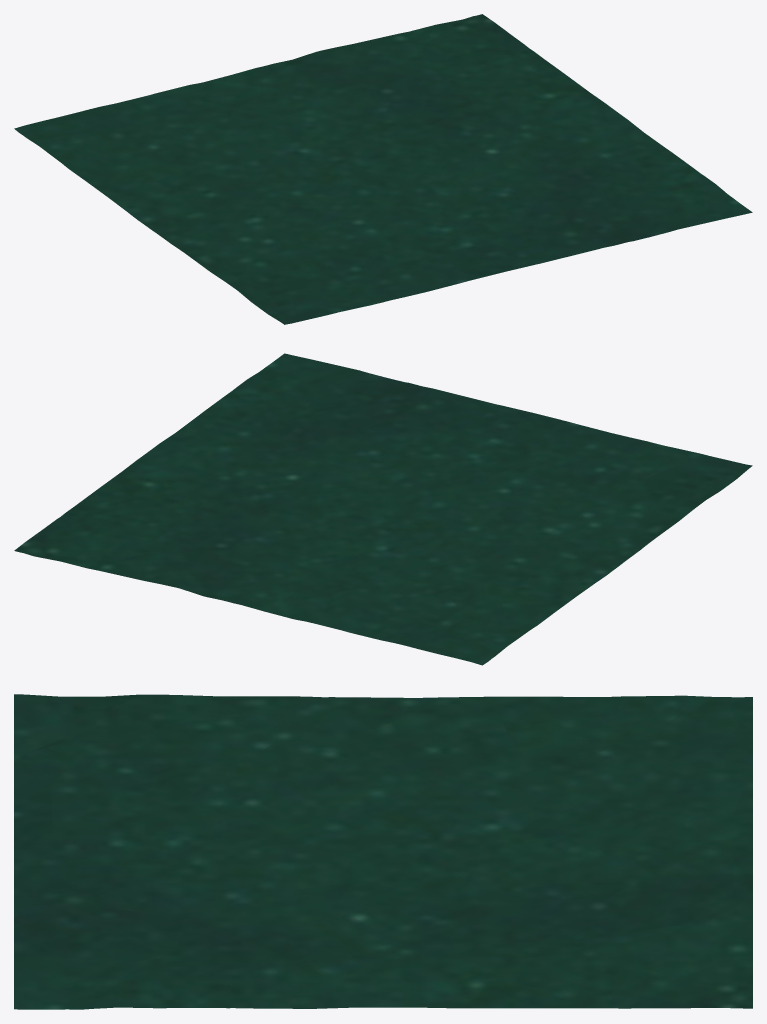
3 views of the same model, one above another, from view 1: azimuth 30°, elevation 25°; view 2: azimuth 150°, elevation 25°; view 3: azimuth 270°, elevation 25° (orthographic). The views are drawn at different scales.
Bounding box in the file's own units: 52.22 × 0.4357 × 52.22.
2 materials, 2 textured.
